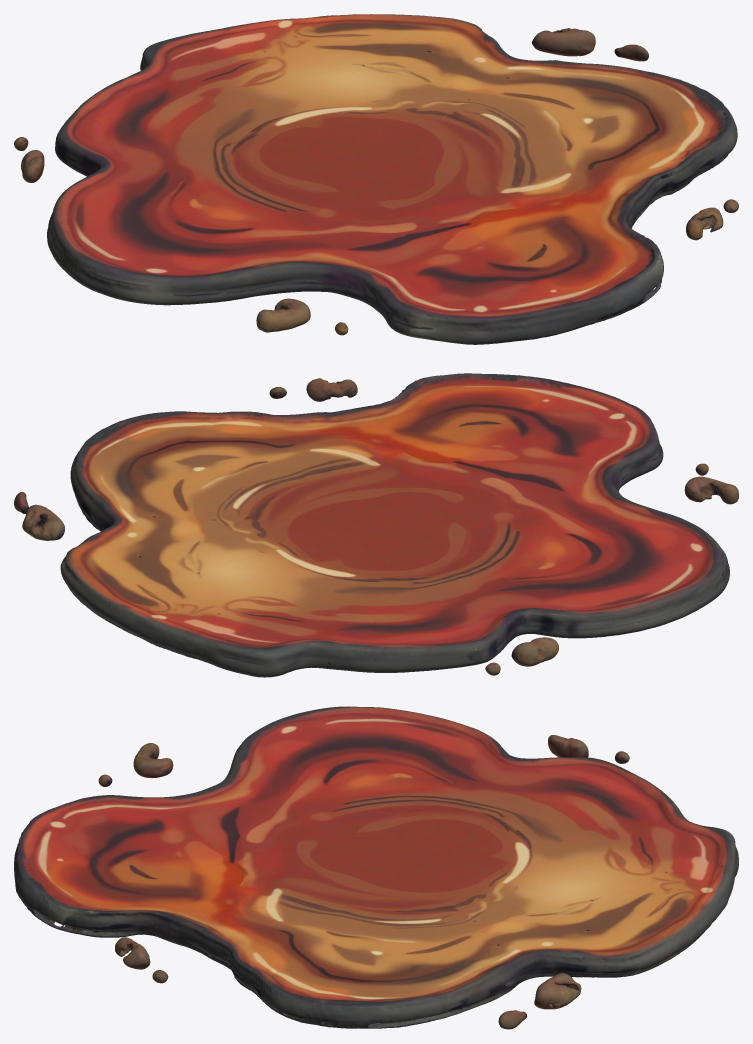
File: Meshy_AI_Rolled_parchment_with_0519142244_texture.fbx
The picture shows the model from 3 angles, top to bottom: view 1: azimuth 30°, elevation 25°; view 2: azimuth 150°, elevation 25°; view 3: azimuth 270°, elevation 25°; orthographic projection. The views are drawn at different scales.
Parts seen in each view (by area): view 1: Mesh_0; view 2: Mesh_0; view 3: Mesh_0.
Boxes of the visible parts, left/top/right/bottom form: Mesh_0: left=14, top=14, right=738, bottom=344; Mesh_0: left=14, top=373, right=738, bottom=677; Mesh_0: left=14, top=706, right=738, bottom=1029.
Bounding box in the file's own units: 200 × 8.43 × 200.
Materials: 1 (1 with a texture image).
